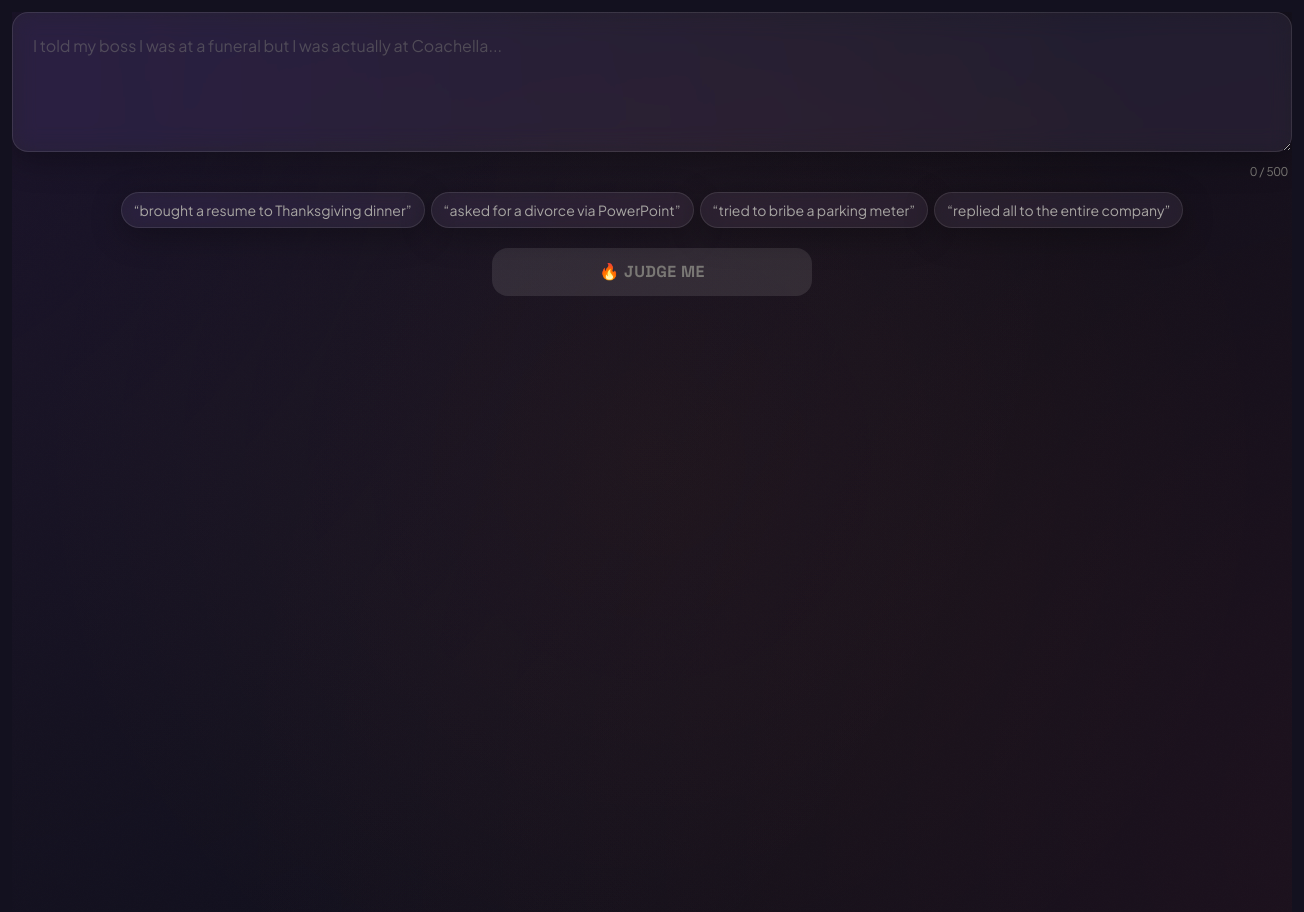
Scenario: InputForm › typing updates the character counter
Type "Hello" into the text box with placeholder "I told my boss I was at a funeral" at [652, 82], box left=12, top=12, right=1292, bottom=152
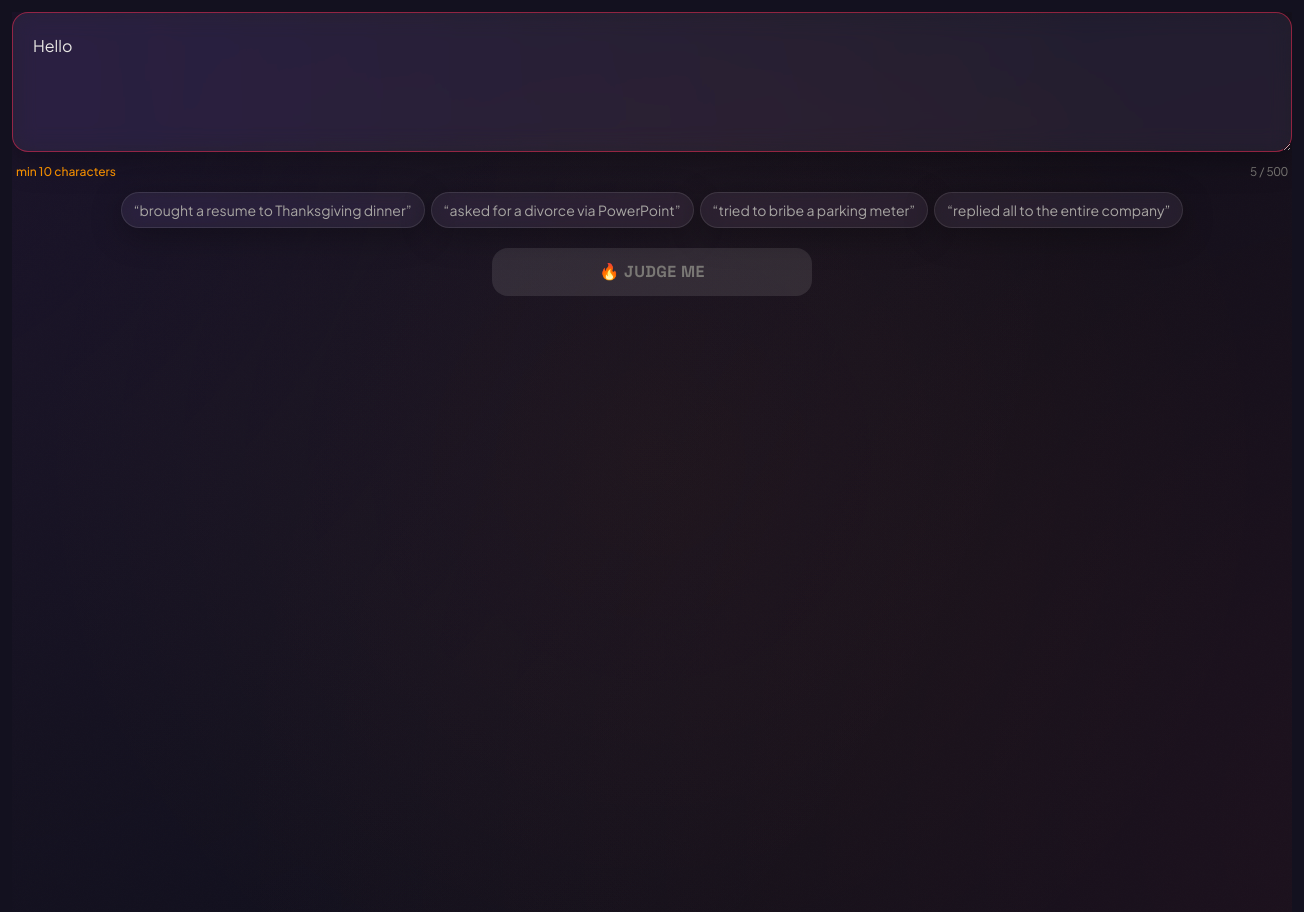
Now the text "5 / 500" is shown, box left=1250, top=164, right=1288, bottom=180
